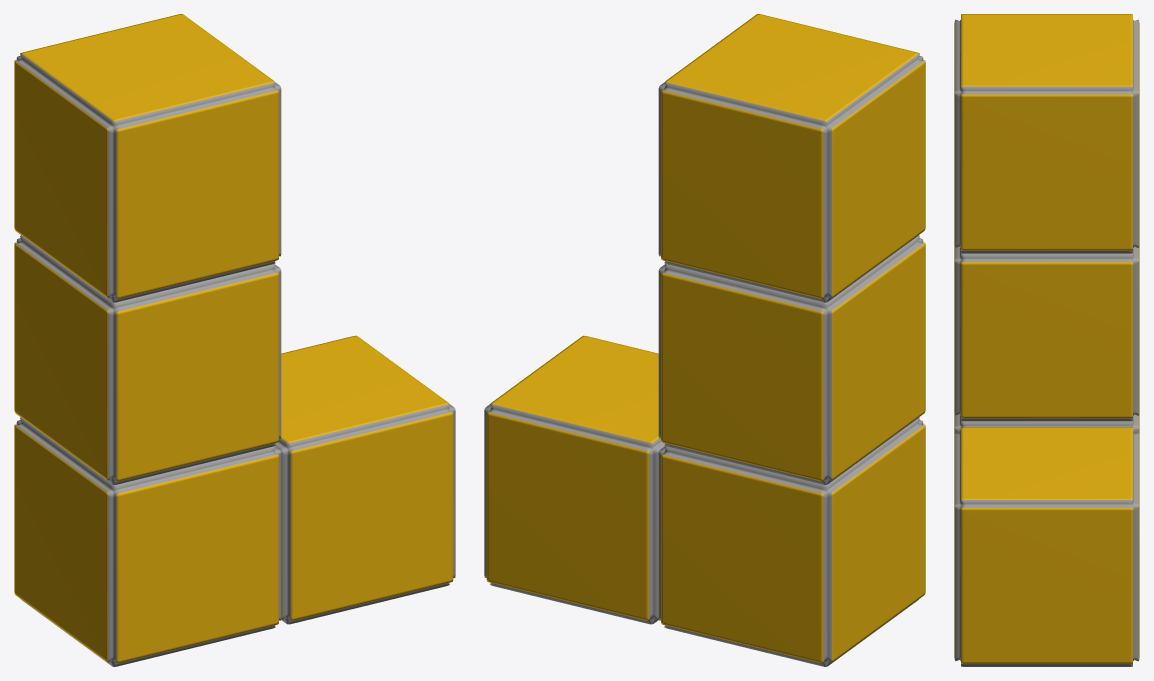
File: orangeTetrinimous.fbx
3 views of the same model, side by side, from view 1: azimuth 30°, elevation 25°; view 2: azimuth 150°, elevation 25°; view 3: azimuth 270°, elevation 25° (orthographic). The views are drawn at different scales.
Parts seen in each view (by area): view 1: orangeTetrinimous; view 2: orangeTetrinimous; view 3: orangeTetrinimous.
Boxes of the visible parts, <box> form: orangeTetrinimous: <box>14,14,455,666</box>; orangeTetrinimous: <box>484,14,925,666</box>; orangeTetrinimous: <box>954,14,1139,666</box>.
Bounding box in the file's own units: 2.02 × 3.03 × 1.01.
